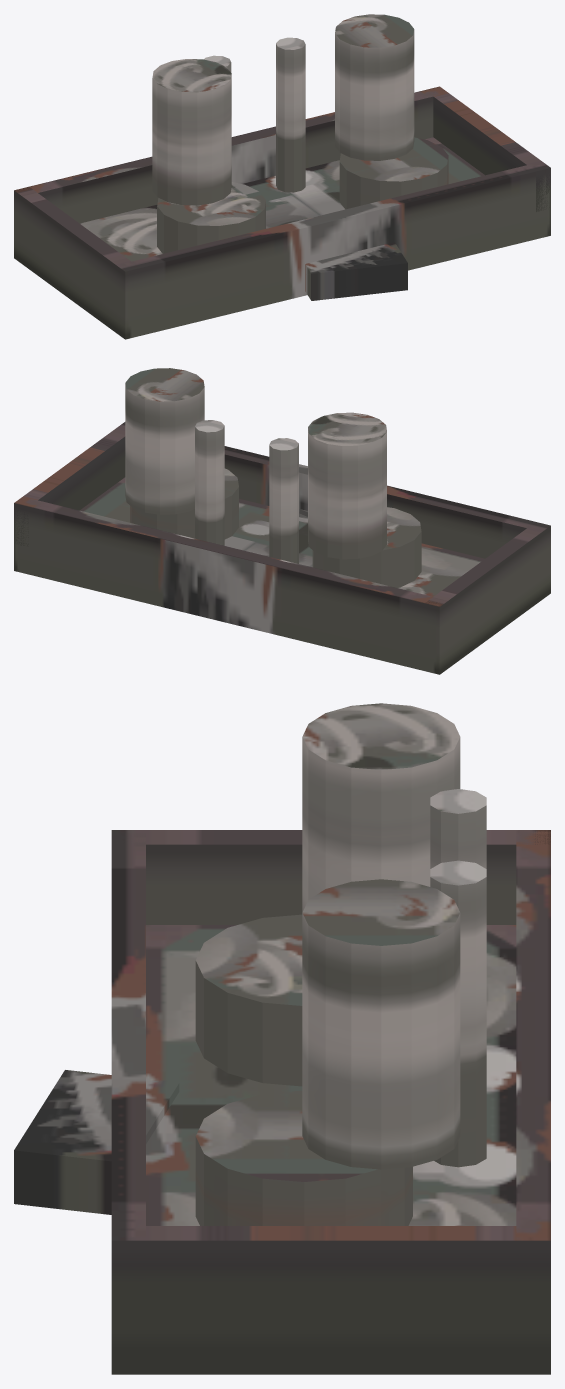
Rendered from Building_AncientStandardRecharger.glb.
3 renders of one model, top to bottom at view 1: azimuth 30°, elevation 25°; view 2: azimuth 150°, elevation 25°; view 3: azimuth 270°, elevation 25°, orthographic. The views are drawn at different scales.
Parts seen in each view (by area): view 1: AncientStandardRecharger; view 2: AncientStandardRecharger; view 3: AncientStandardRecharger.
Part boxes in pixels (x1,y1,x2,y2): AncientStandardRecharger: (14,14,550,339); AncientStandardRecharger: (14,368,550,674); AncientStandardRecharger: (14,703,550,1374).
Bounding box in the file's own units: 1.97 × 0.8 × 1.09.
Materials: 1 (1 with a texture image).
